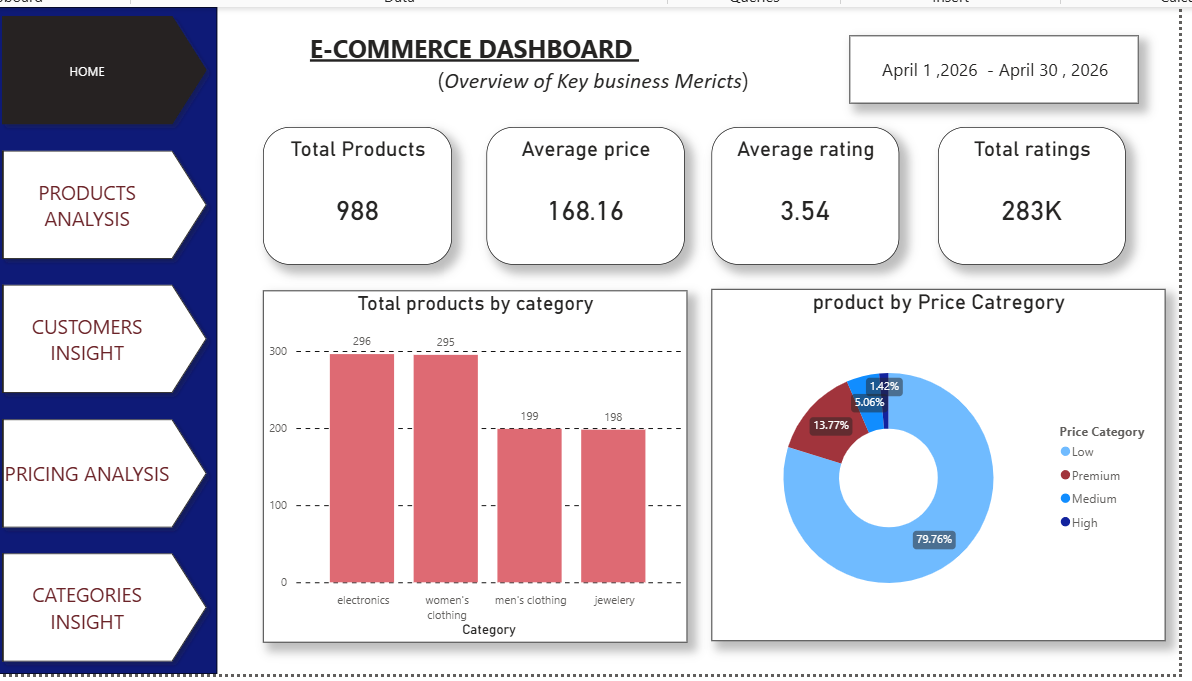

This screenshot's page, from the dashboard's own definition file:
{"tool":"powerbi","page":{"name":"HOME","canvas":[1280,720],"ordinal":0},"visuals":[{"type":"card","title":" Total Products","fields":{"Values":["CountNonNull(cleaned data.id)"]},"box":[291.5,129.5,204,149],"z":0},{"type":"card","title":"Average price","fields":{"Values":["Avg(cleaned data.Price)"]},"box":[532.7,129.5,213.7,149],"z":1000},{"type":"card","title":"Average rating","fields":{"Values":["Avg(cleaned data.rating_rate)"]},"box":[775.6,129.5,202.4,149],"z":2000},{"type":"card","title":"Total ratings","fields":{"Values":["Sum(cleaned data.rating_count)"]},"box":[1020.1,129.5,202.4,149],"z":3000},{"type":"columnChart","title":"Total products by category","fields":{"Category":["cleaned data.Category"],"Y":["CountNonNull(cleaned data.Product_Name)"]},"box":[292,306,458,380],"z":4000},{"type":"pieChart","title":"product by Price Catregory","fields":{"Category":["cleaned data.Price Category"],"Y":["CountNonNull(cleaned data.Product_Name)"]},"box":[775,305,490,380],"z":5000},{"type":"pageNavigator","title":"s","box":[0,0,241.7,720],"z":6000},{"type":"textbox","box":[336.8,21,605.6,90.7],"z":7000},{"type":"textbox","box":[925,30,311.7,73.3],"z":8000}]}

Visuals, with their boxes in screenshot pixels (x1, y1, x2, y2):
" Total Products" card: l=258, t=149, r=439, b=281
"Average price" card: l=472, t=149, r=661, b=281
"Average rating" card: l=687, t=149, r=866, b=281
"Total ratings" card: l=904, t=149, r=1083, b=281
"Total products by category" columnChart: l=259, t=305, r=664, b=642
"product by Price Catregory" pieChart: l=687, t=304, r=1121, b=641
"s" pageNavigator: l=0, t=34, r=214, b=672
textbox: l=298, t=53, r=835, b=133
textbox: l=819, t=61, r=1095, b=126
